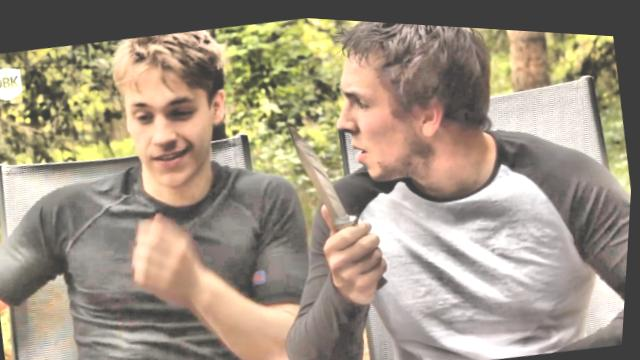knife: (269, 89, 395, 274)
